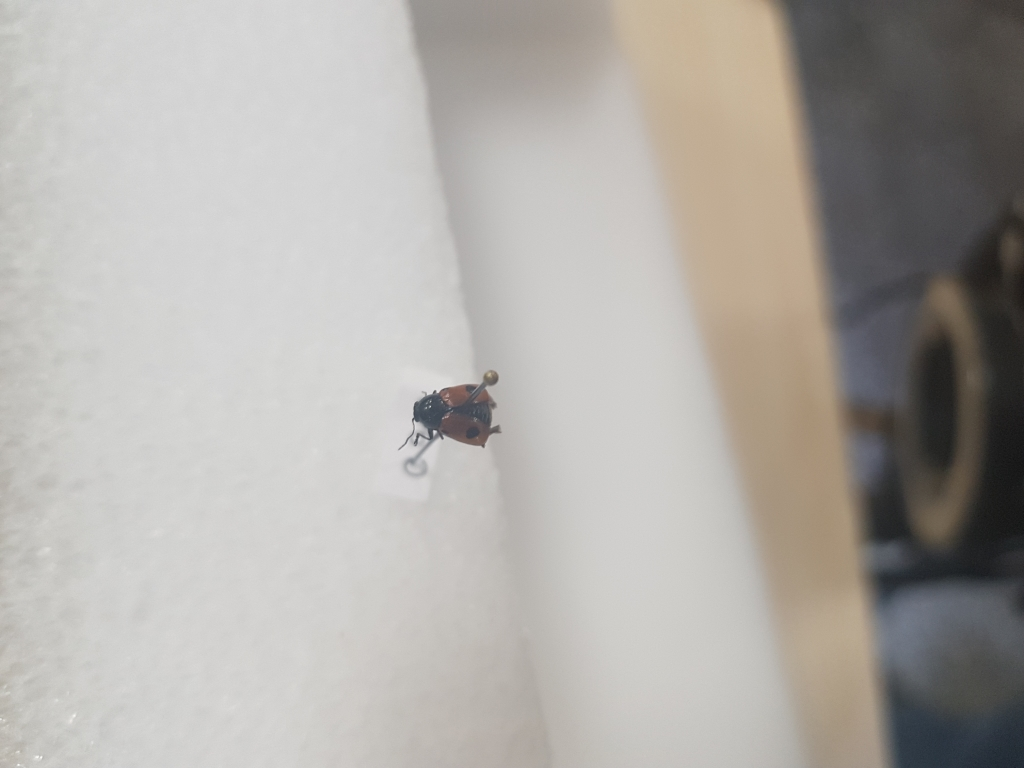Cryptocephalus_bipunctatus: (401, 381, 505, 457)
